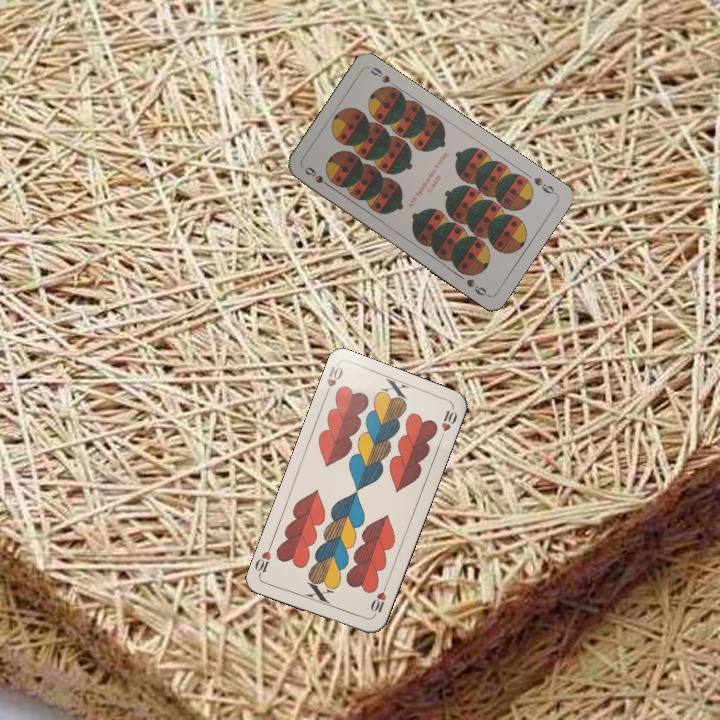H10: (320, 361, 346, 400), (366, 581, 389, 620)
S9: (300, 162, 336, 191), (530, 173, 559, 197)
